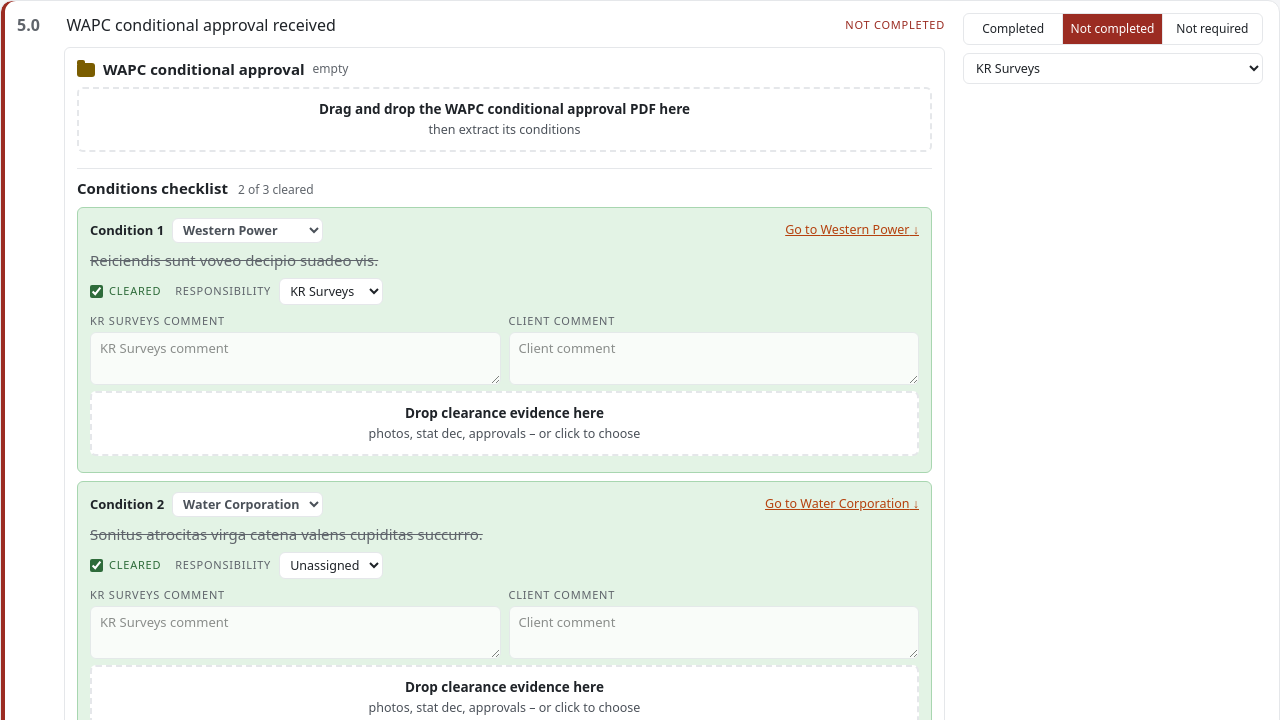
Test: writing a condition › puts a refused tick back, reloads the job and says it changed under the person on a 412
What coordinates should you click on to do the following:
click the checkbox named "Condition 1: Open"
I would click on:
 (96, 291)
Its box is [90,284,103,298].
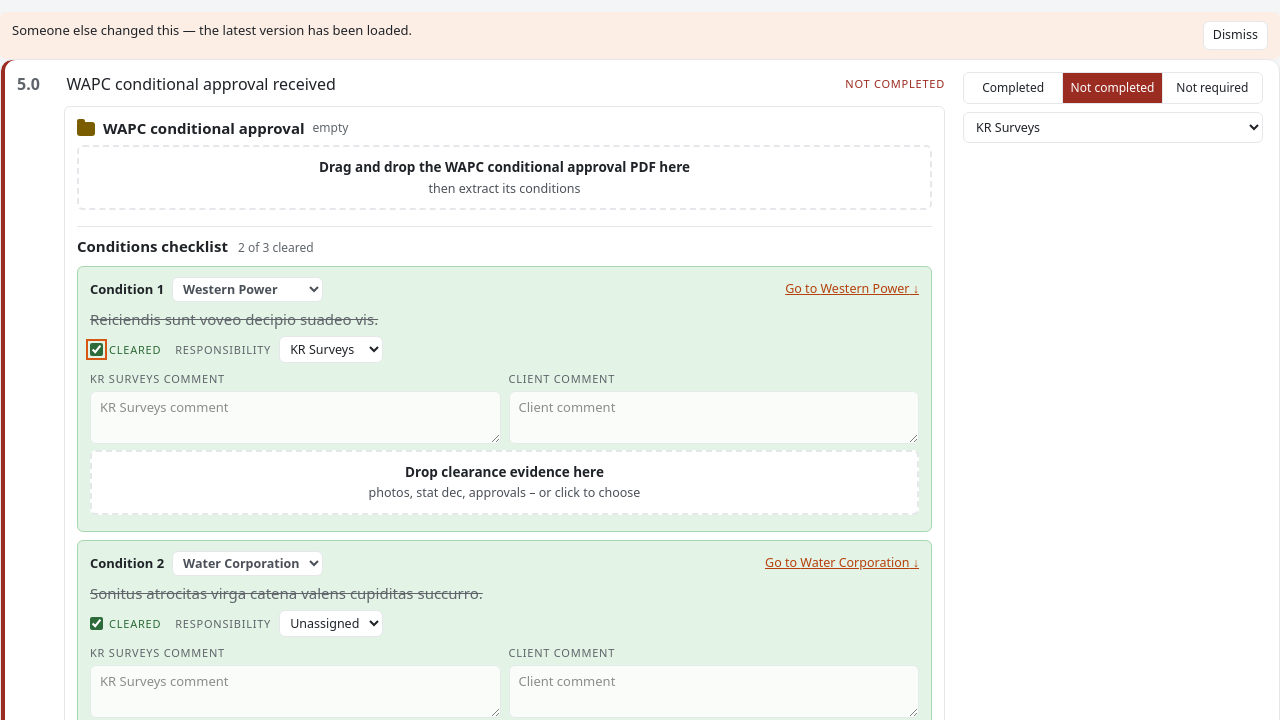
Expected: the dropdown named "Responsibility for condition 1" shows "KR Surveys", [279,336,383,363]
Now the text "Someone else changed this — the latest version has been loaded." is shown, box [12,21,412,39]
